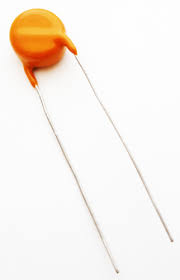ceramic capacitor: (5, 4, 84, 97)
